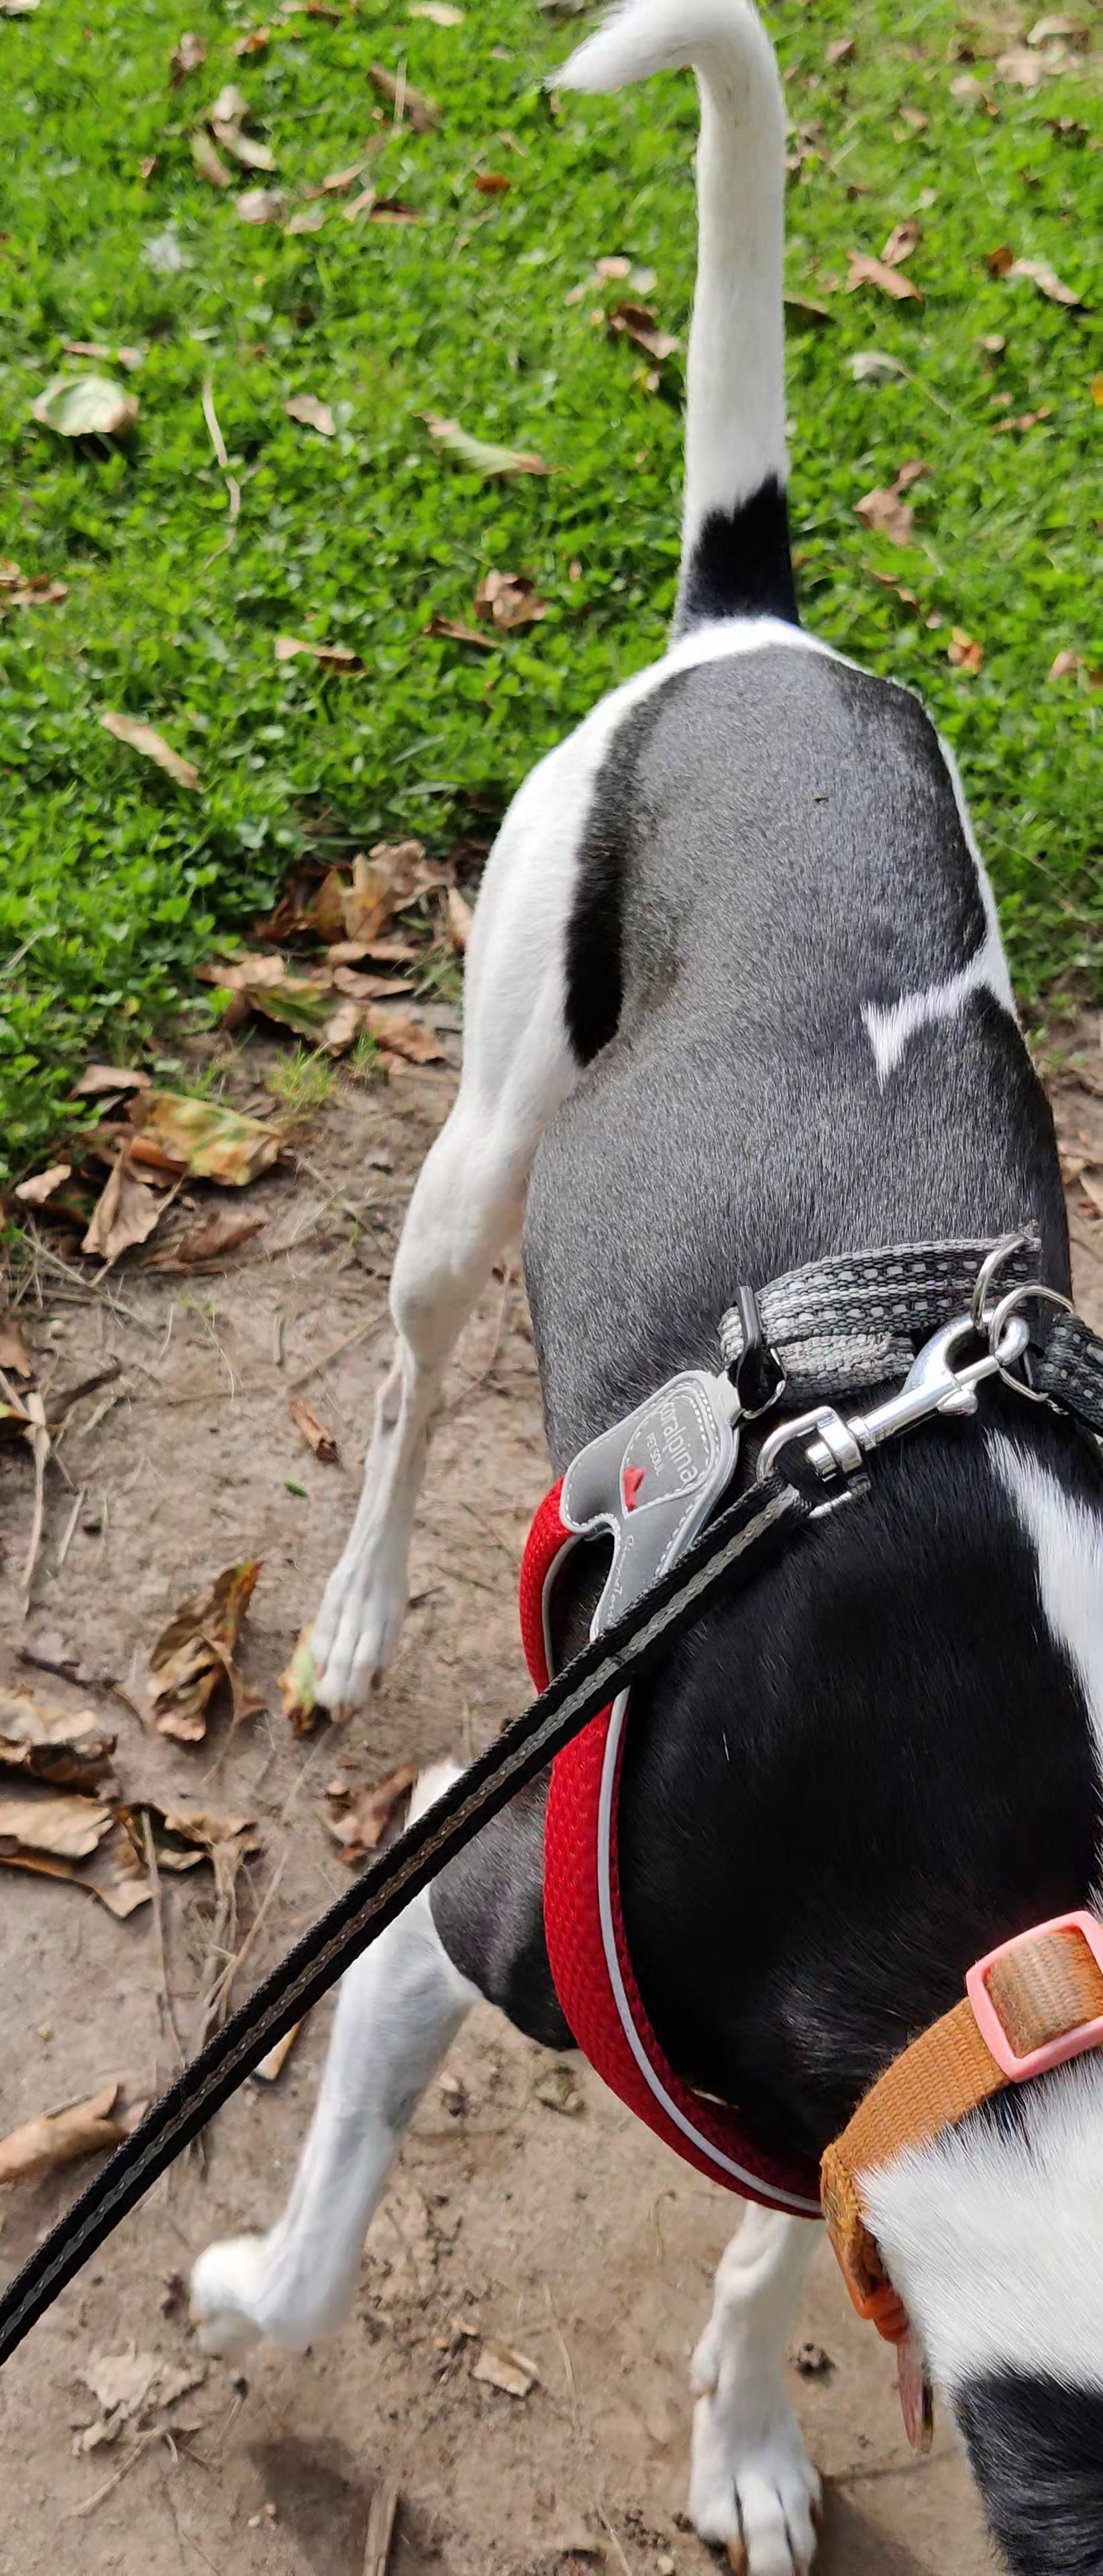Dog: (150, 0, 1103, 2576)
